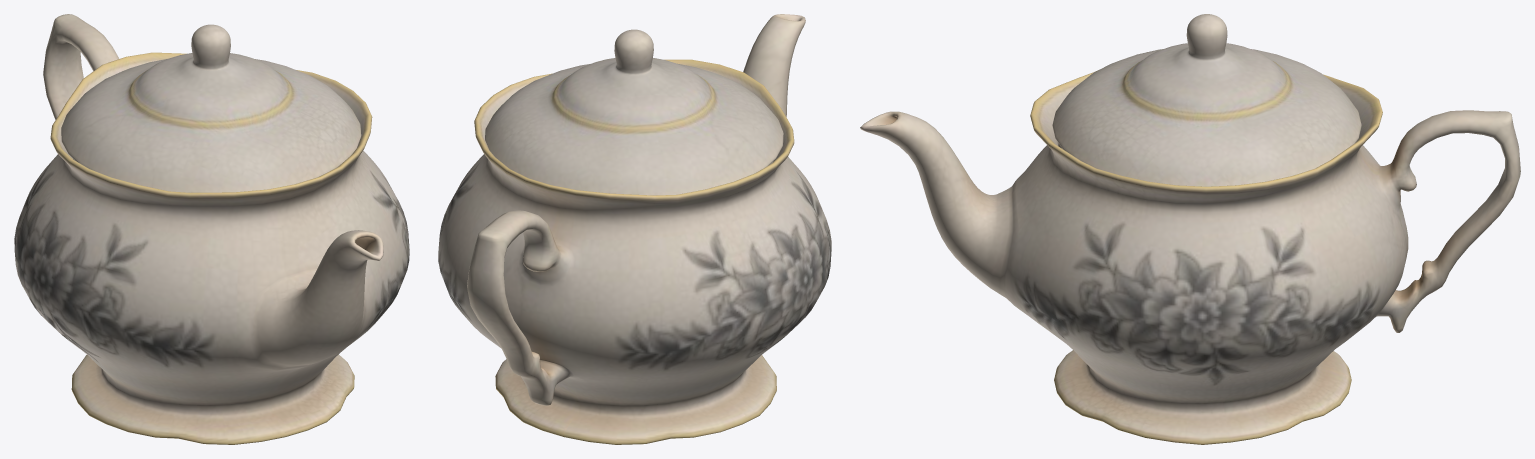
Rendered from ph-thrift-teapot.glb.
3 views of the same model, side by side, from view 1: azimuth 30°, elevation 25°; view 2: azimuth 150°, elevation 25°; view 3: azimuth 270°, elevation 25° (orthographic). The views are drawn at different scales.
Visible parts, largest first — view 1: tea_set_01_teapot_01, tea_set_01_teapot_01_lid; view 2: tea_set_01_teapot_01, tea_set_01_teapot_01_lid; view 3: tea_set_01_teapot_01, tea_set_01_teapot_01_lid.
Part boxes in pixels (x1,y1,x2,y2): tea_set_01_teapot_01: [14, 14, 409, 444]; tea_set_01_teapot_01_lid: [61, 24, 361, 192]; tea_set_01_teapot_01: [438, 14, 831, 444]; tea_set_01_teapot_01_lid: [485, 29, 783, 195]; tea_set_01_teapot_01: [860, 70, 1520, 444]; tea_set_01_teapot_01_lid: [1052, 14, 1361, 186].
Bounding box in the file's own units: 0.2406 × 0.24 × 0.3911.
Materials: 1 (1 with a texture image).
